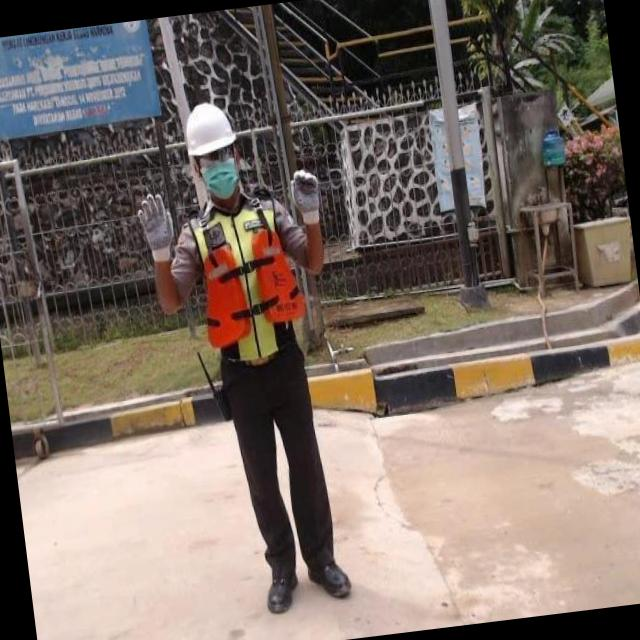hard_hat: (180, 94, 246, 165)
safety_vest: (180, 187, 314, 374)
vehicle: (100, 66, 409, 640)
work_boots: (302, 547, 358, 609), (262, 568, 305, 620)
